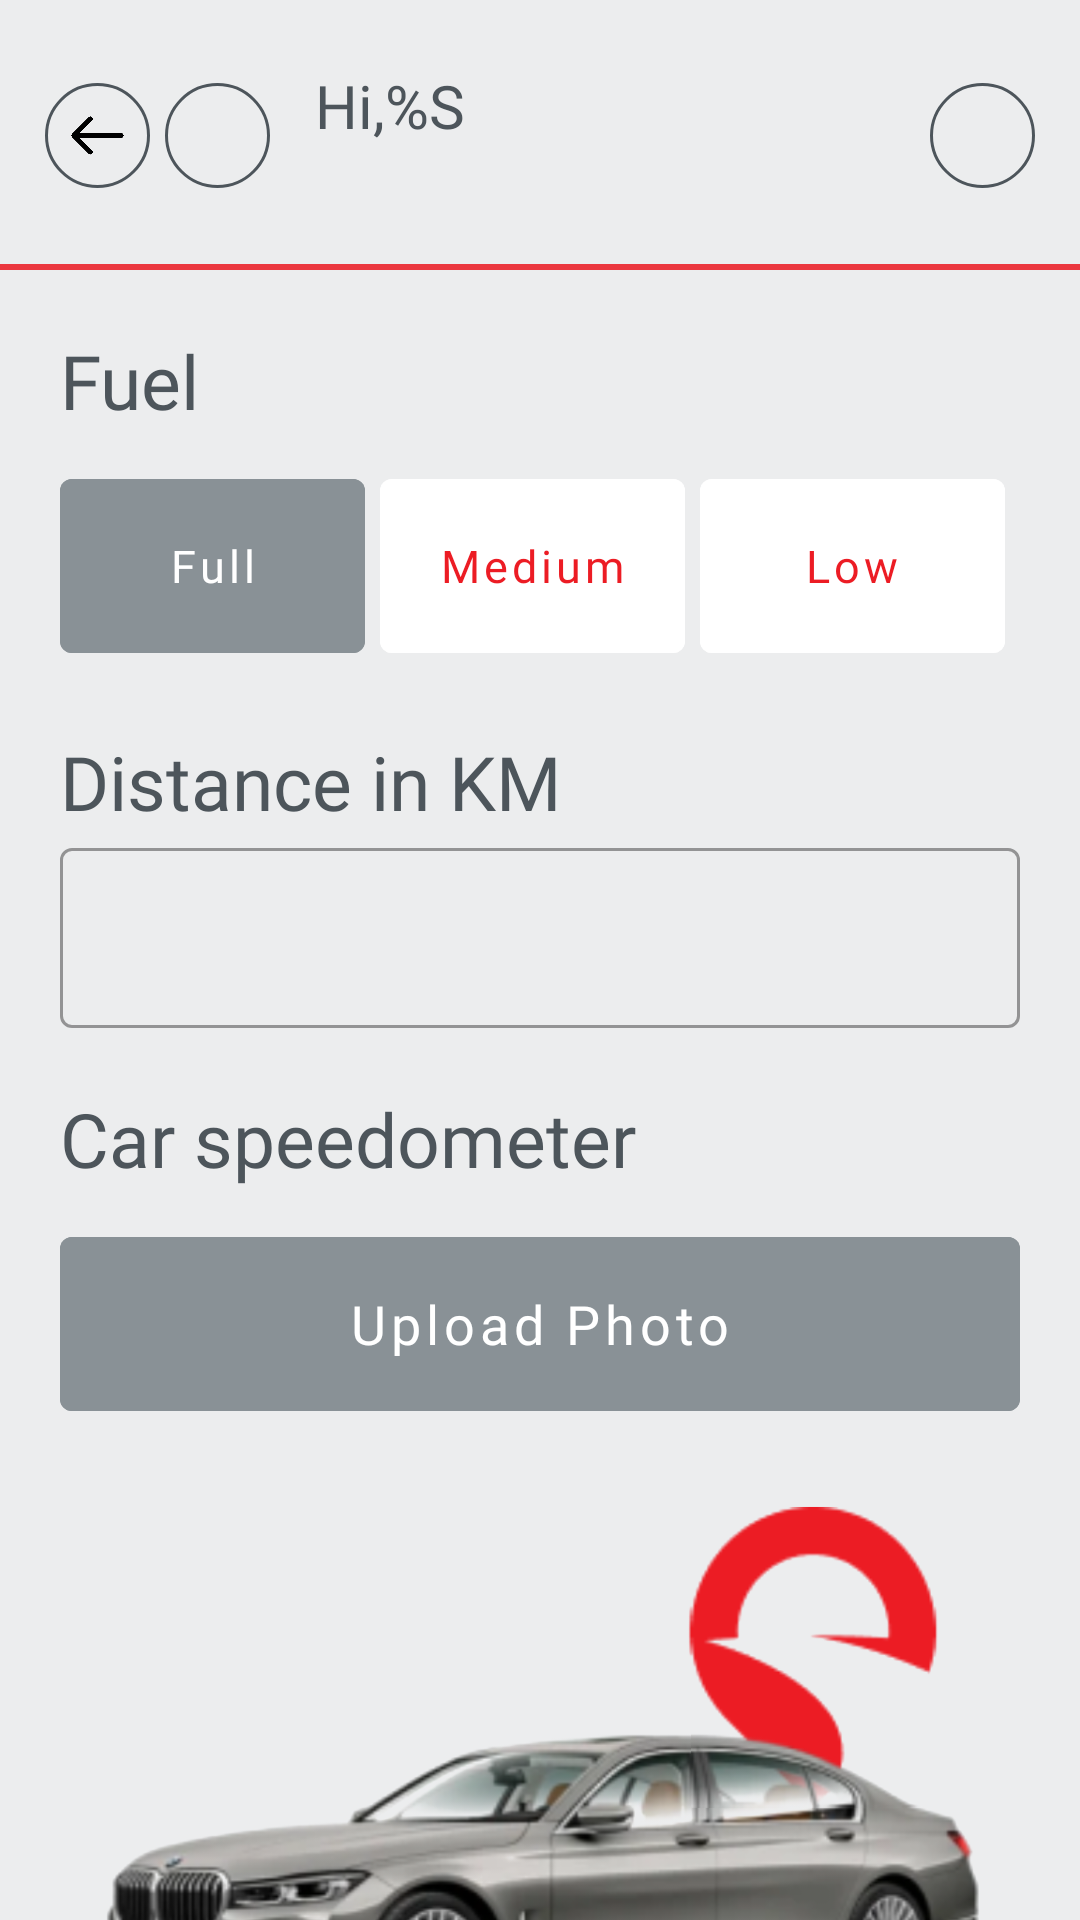

Locate icon controls on the screen. Image size 1080 x 1920, boxes as (x1, y1, x2, y2).
back: (45, 83, 150, 188)
